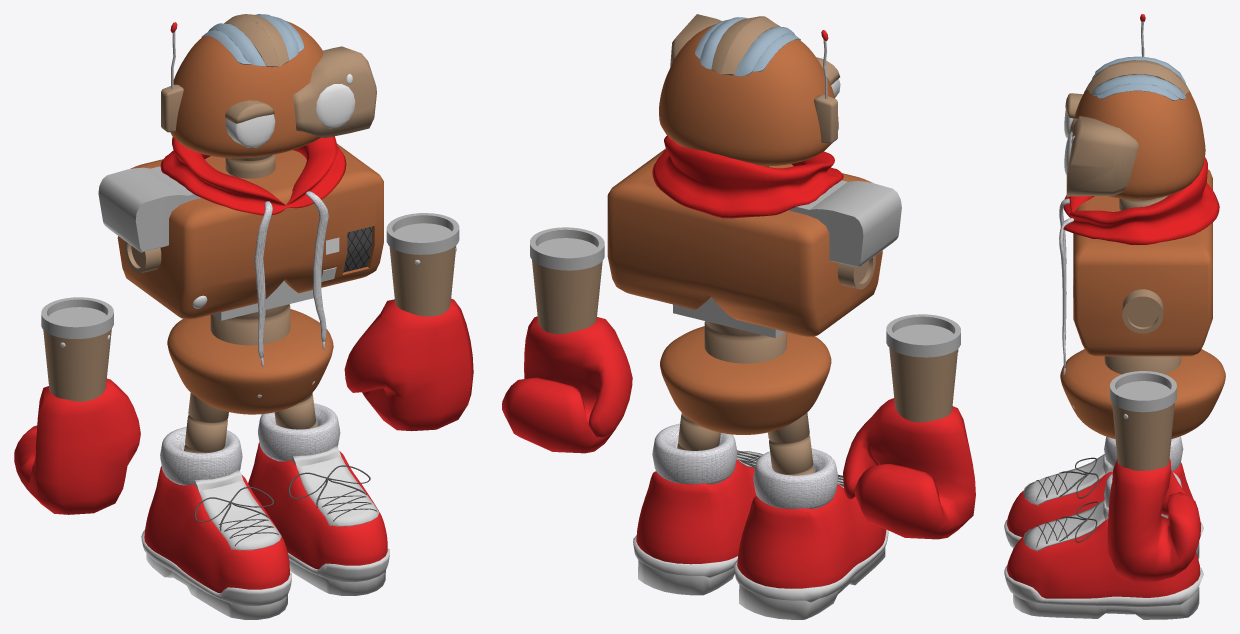
File: arm_L.fbx
3 renders of one model, left to right at view 1: azimuth 30°, elevation 25°; view 2: azimuth 150°, elevation 25°; view 3: azimuth 270°, elevation 25°, orthographic. The views are drawn at different scales.
Visible parts, largest first — view 1: Torso, Glove L, Glove R, Hips, Head, Shoe R, Shoe L, Scarf, Shoulderplate, Eye L, Arm R, Shoe R.001 (+22 smaller); view 2: Torso, Head, Glove R, Glove L, Hips, Shoe R, Scarf, Shoe L, Shoulderplate, Arm L, Arm R, Shoe R.002 (+15 smaller); view 3: Torso, Glove L, Head, Shoe L, Hips, Scarf, Eye L, Shoe L.002, Arm L, Shoe R, Arm L.001, Shoe R.001 (+11 smaller).
Boxes of the visible parts, left/top/right/bottom form: Torso: left=117, top=143, right=383, bottom=319; Glove L: left=344, top=298, right=473, bottom=431; Glove R: left=14, top=378, right=140, bottom=514; Hips: left=167, top=309, right=333, bottom=414; Head: left=170, top=21, right=322, bottom=158; Shoe R: left=144, top=466, right=289, bottom=592; Shoe L: left=248, top=442, right=387, bottom=569; Scarf: left=160, top=136, right=346, bottom=215; Shoulderplate: left=98, top=166, right=201, bottom=252; Eye L: left=292, top=46, right=376, bottom=138; Arm R: left=43, top=328, right=111, bottom=401; Shoe R.001: left=194, top=469, right=281, bottom=550; Torso: left=607, top=148, right=882, bottom=336; Head: left=659, top=24, right=838, bottom=166; Glove R: left=843, top=398, right=975, bottom=539; Glove L: left=502, top=316, right=632, bottom=453; Hips: left=660, top=326, right=831, bottom=434; Shoe R: left=737, top=484, right=886, bottom=588; Scarf: left=652, top=135, right=843, bottom=218; Shoe L: left=636, top=460, right=756, bottom=564; Shoulderplate: left=788, top=180, right=901, bottom=267; Arm L: left=532, top=260, right=602, bottom=334; Arm R: left=889, top=348, right=957, bottom=422; Shoe R.002: left=734, top=530, right=888, bottom=619; Torso: left=1073, top=169, right=1212, bottom=356; Glove L: left=1107, top=458, right=1200, bottom=582; Head: left=1074, top=81, right=1205, bottom=199; Shoe L: left=1007, top=519, right=1200, bottom=598; Hips: left=1060, top=349, right=1225, bottom=439; Scarf: left=1063, top=157, right=1219, bottom=244; Eye L: left=1066, top=116, right=1138, bottom=196; Shoe L.002: left=1004, top=565, right=1203, bottom=619; Arm L: left=1112, top=403, right=1174, bottom=470; Shoe R: left=1007, top=462, right=1193, bottom=537; Arm L.001: left=1109, top=371, right=1176, bottom=412; Shoe R.001: left=1023, top=454, right=1113, bottom=505.
Size of the model in its own units: 410 by 495 by 187.
